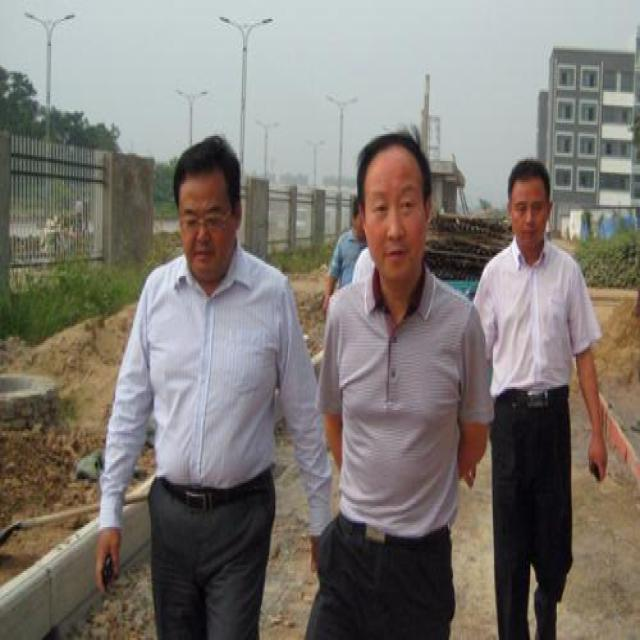no-helmet: (350, 122, 438, 286), (168, 130, 247, 280), (503, 153, 554, 253)
